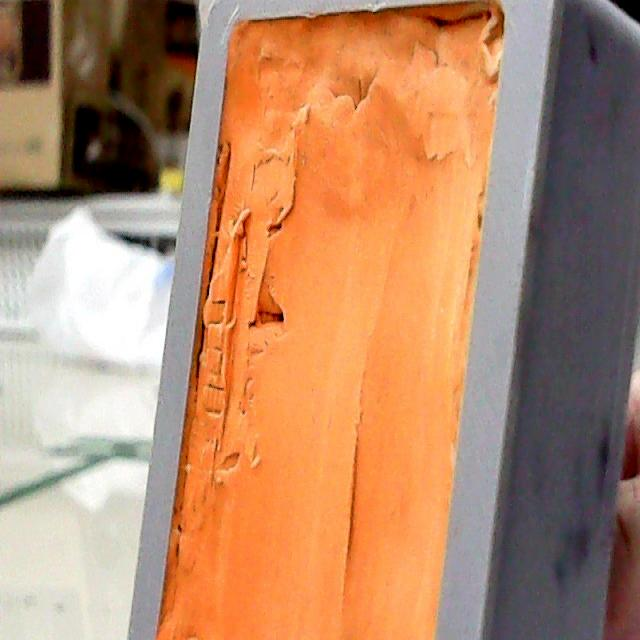block: (124, 0, 640, 635)
